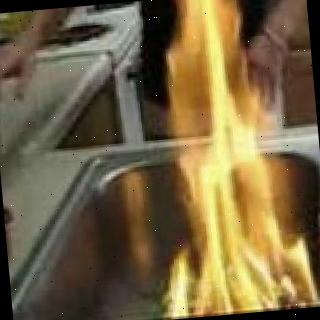fire: (156, 0, 308, 318)
